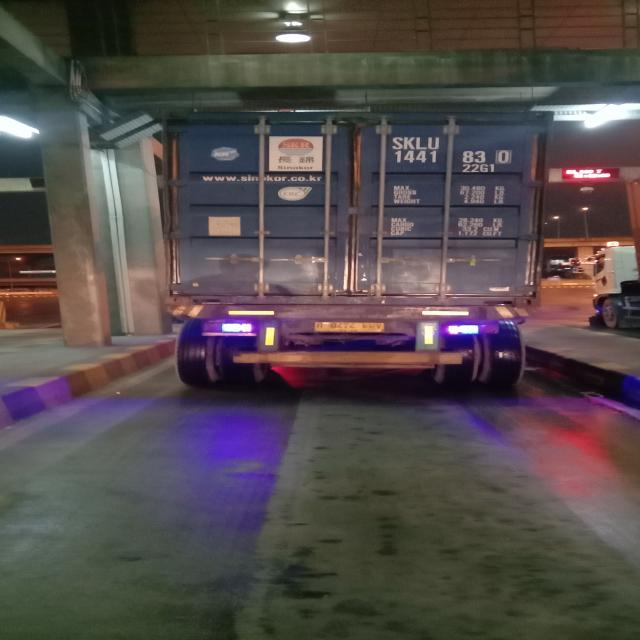seal: (468, 258, 478, 267), (381, 294, 386, 304)
